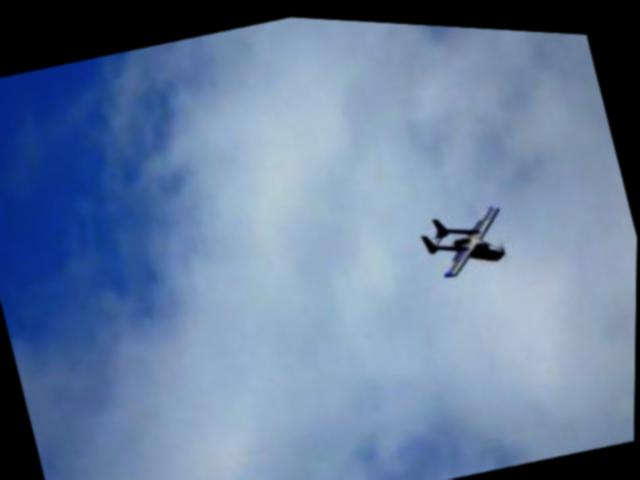uav: (414, 183, 520, 285)
